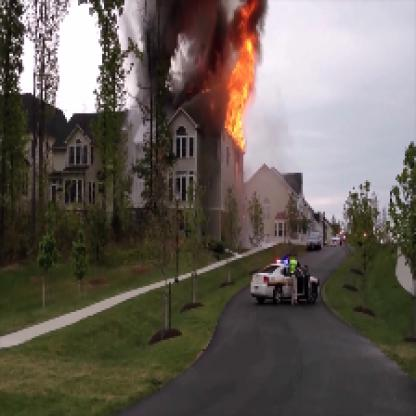Fire: (204, 2, 268, 143)
Smoke: (134, 2, 230, 122)
